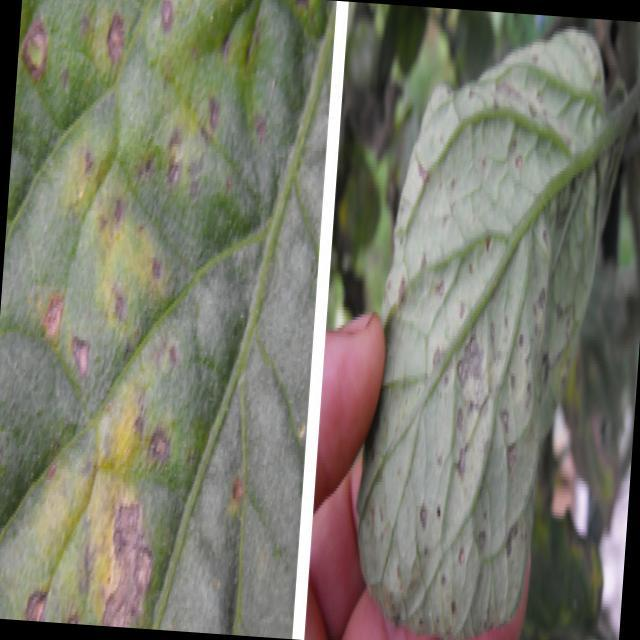Tomato Septoria spot leaf: (0, 0, 334, 638), (332, 24, 625, 640)
